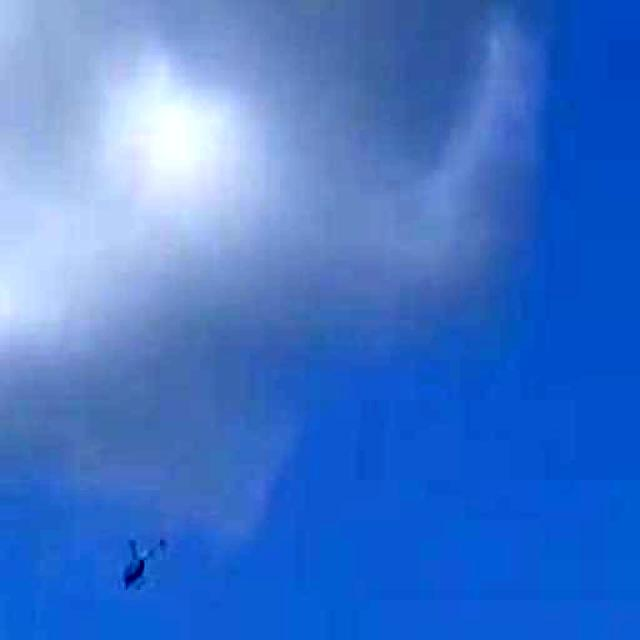drone: (74, 500, 200, 620)
